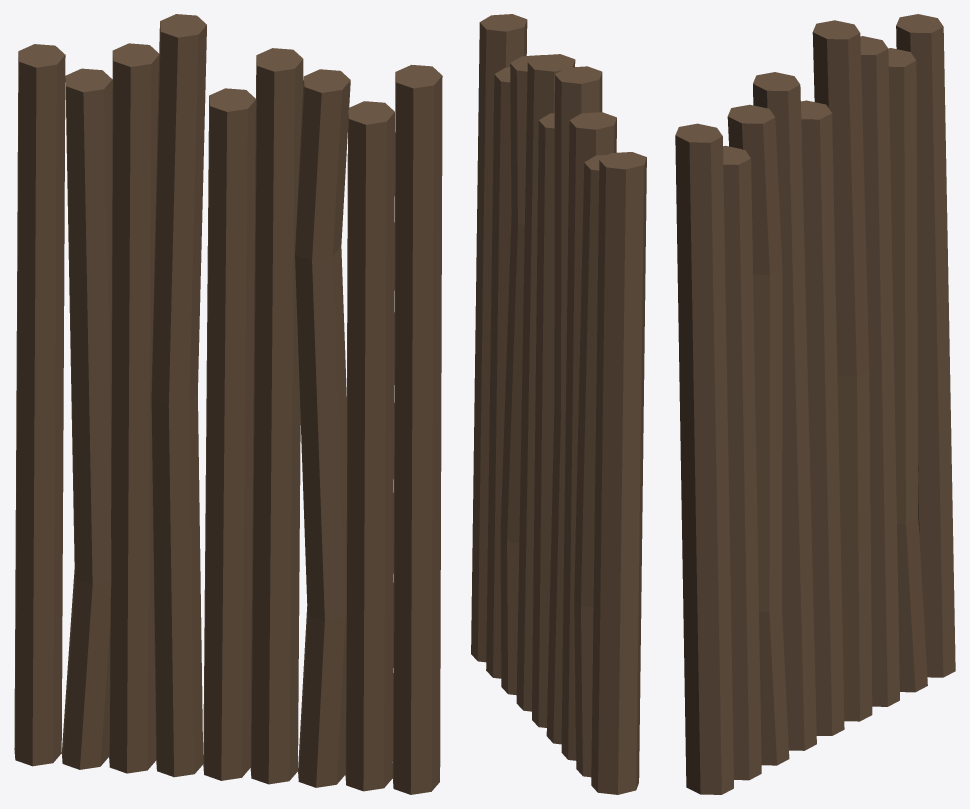
File: house_2.012.fbx
3 renders of one model, left to right at view 1: azimuth 30°, elevation 25°; view 2: azimuth 150°, elevation 25°; view 3: azimuth 270°, elevation 25°, orthographic. The views are drawn at different scales.
Parts seen in each view (by area): view 1: house_2.012; view 2: house_2.012; view 3: house_2.012.
Part boxes in pixels (bbox=[...]): house_2.012: bbox=[14, 14, 442, 794]; house_2.012: bbox=[471, 14, 646, 794]; house_2.012: bbox=[675, 14, 955, 794].
Size of the model in its own units: 96.37 by 227 by 84.35.
